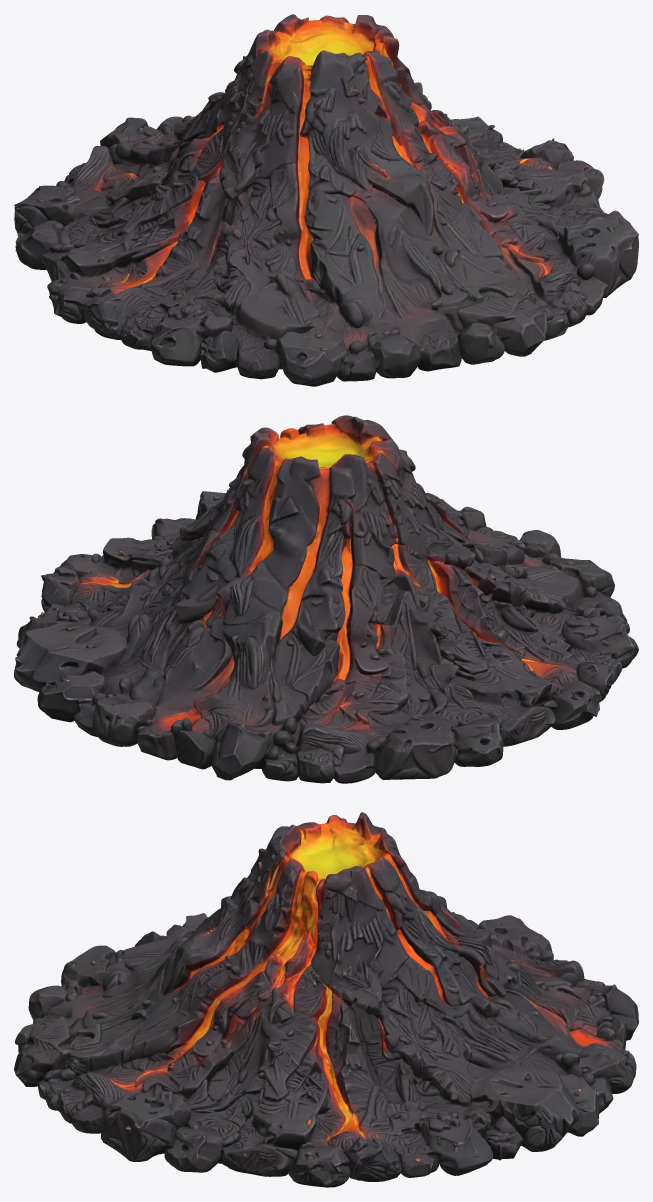
Rendered from active-volcano.glb.
3 views of the same model, one above another, from view 1: azimuth 30°, elevation 25°; view 2: azimuth 150°, elevation 25°; view 3: azimuth 270°, elevation 25° (orthographic).
Parts seen in each view (by area): view 1: tripo_node_f66955d9-45e6-4013-beff-2c1d6397bc93; view 2: tripo_node_f66955d9-45e6-4013-beff-2c1d6397bc93; view 3: tripo_node_f66955d9-45e6-4013-beff-2c1d6397bc93.
Boxes of the visible parts, bbox=[...] form: tripo_node_f66955d9-45e6-4013-beff-2c1d6397bc93: bbox=[14, 14, 638, 386]; tripo_node_f66955d9-45e6-4013-beff-2c1d6397bc93: bbox=[14, 415, 638, 783]; tripo_node_f66955d9-45e6-4013-beff-2c1d6397bc93: bbox=[14, 812, 638, 1187].
Bounding box in the file's own units: 0.9772 × 0.3903 × 0.9788.
1 material, 1 textured.
